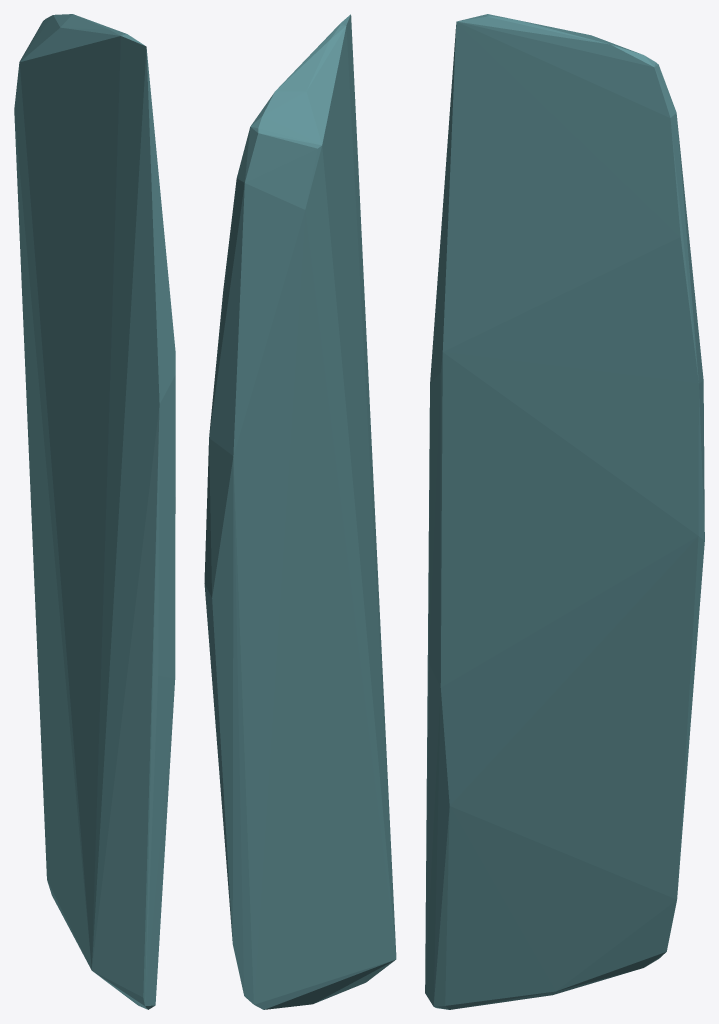
File: bodyPart_grille_a01.glb
3 views of the same model, side by side, from view 1: azimuth 30°, elevation 25°; view 2: azimuth 150°, elevation 25°; view 3: azimuth 270°, elevation 25° (orthographic). The views are drawn at different scales.
Parts seen in each view (by area): view 1: geometry_0; view 2: geometry_0; view 3: geometry_0.
Part boxes in pixels (bbox=[...]): geometry_0: bbox=[14, 14, 175, 1009]; geometry_0: bbox=[204, 14, 396, 1009]; geometry_0: bbox=[425, 14, 704, 1009].
Size of the model in its own units: 0.0404 by 0.4774 by 0.1219.
